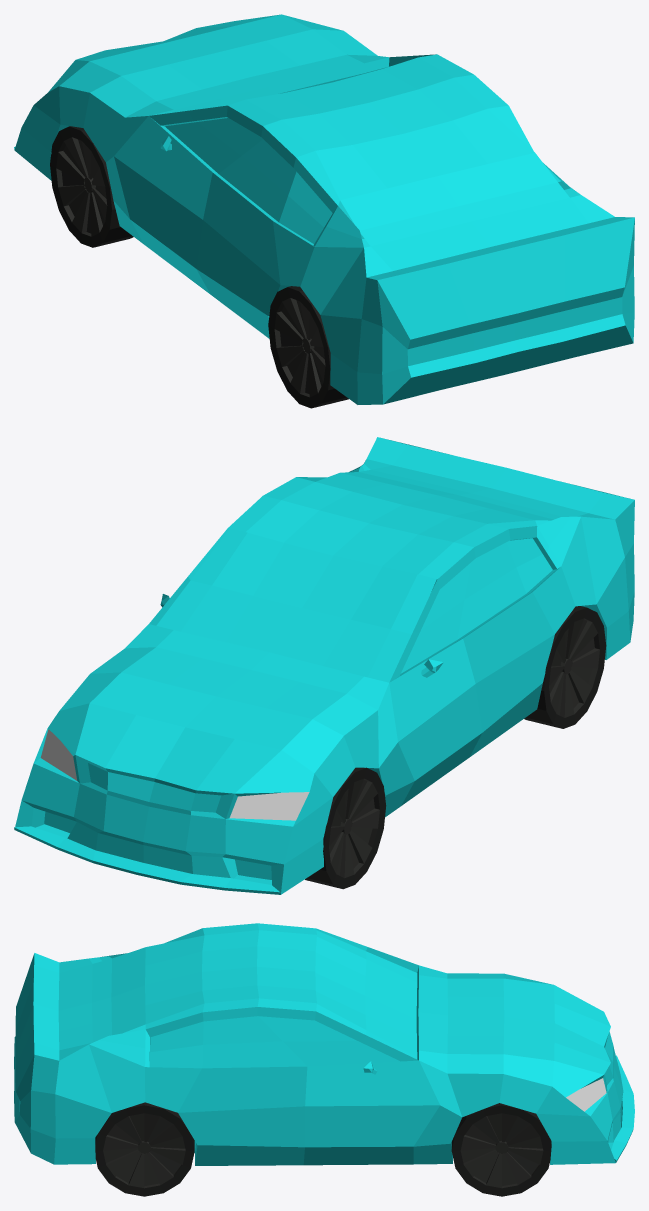
Rendered from Auto.fbx.
3 renders of one model, top to bottom at view 1: azimuth 30°, elevation 25°; view 2: azimuth 150°, elevation 25°; view 3: azimuth 270°, elevation 25°, orthographic. The views are drawn at different scales.
Parts seen in each view (by area): view 1: Cube, Circle.002, Circle.004; view 2: Cube, Circle.004, Circle.002; view 3: Cube, Circle.003a, Circle.001.
Part boxes in pixels (x1,y1,x2,y2): Cube: (14, 14, 634, 404); Circle.002: (50, 126, 133, 247); Circle.004: (268, 286, 348, 408); Cube: (14, 437, 634, 894); Circle.004: (524, 606, 606, 728); Circle.002: (305, 767, 386, 889); Cube: (14, 923, 634, 1165); Circle.003a: (95, 1102, 194, 1196); Circle.001: (451, 1103, 551, 1196).
Size of the model in its own units: 198 by 146 by 459.
